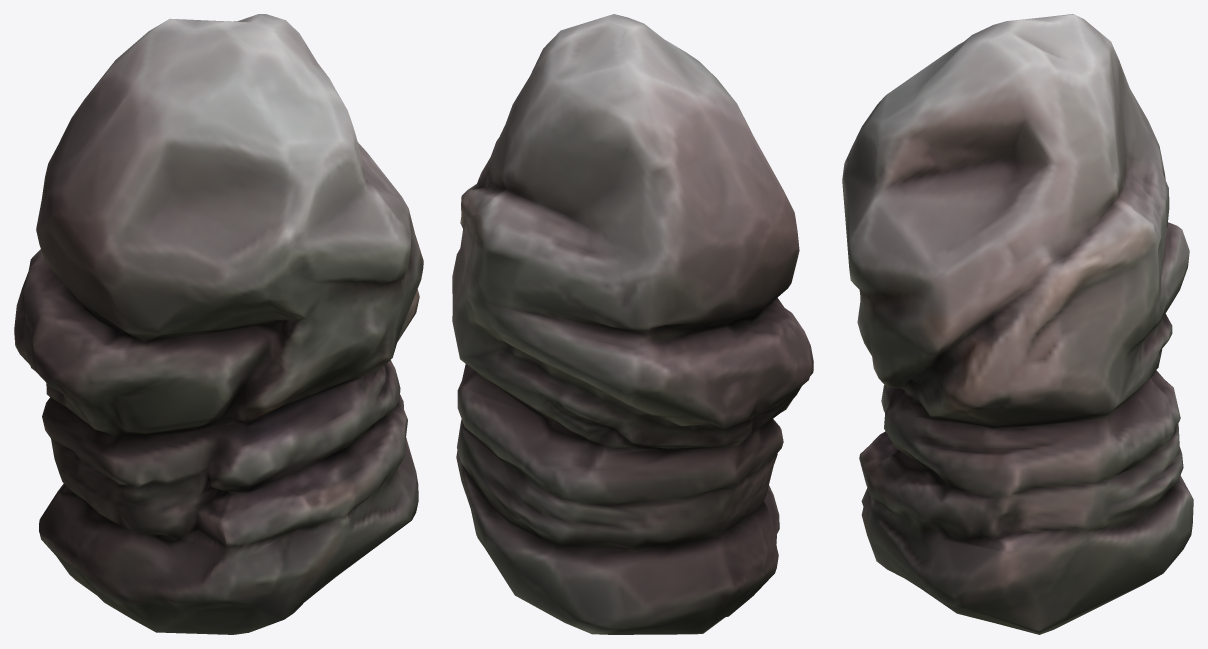
File: o3_roccia_17.glb
3 renders of one model, left to right at view 1: azimuth 30°, elevation 25°; view 2: azimuth 150°, elevation 25°; view 3: azimuth 270°, elevation 25°, orthographic.
Parts seen in each view (by area): view 1: sb_modello; view 2: sb_modello; view 3: sb_modello.
Part boxes in pixels (bbox=[...]): sb_modello: bbox=[14, 14, 423, 634]; sb_modello: bbox=[452, 14, 813, 634]; sb_modello: bbox=[842, 14, 1193, 634].
Bounding box in the file's own units: 3.32 × 5.14 × 2.82.
1 material, 1 textured.
